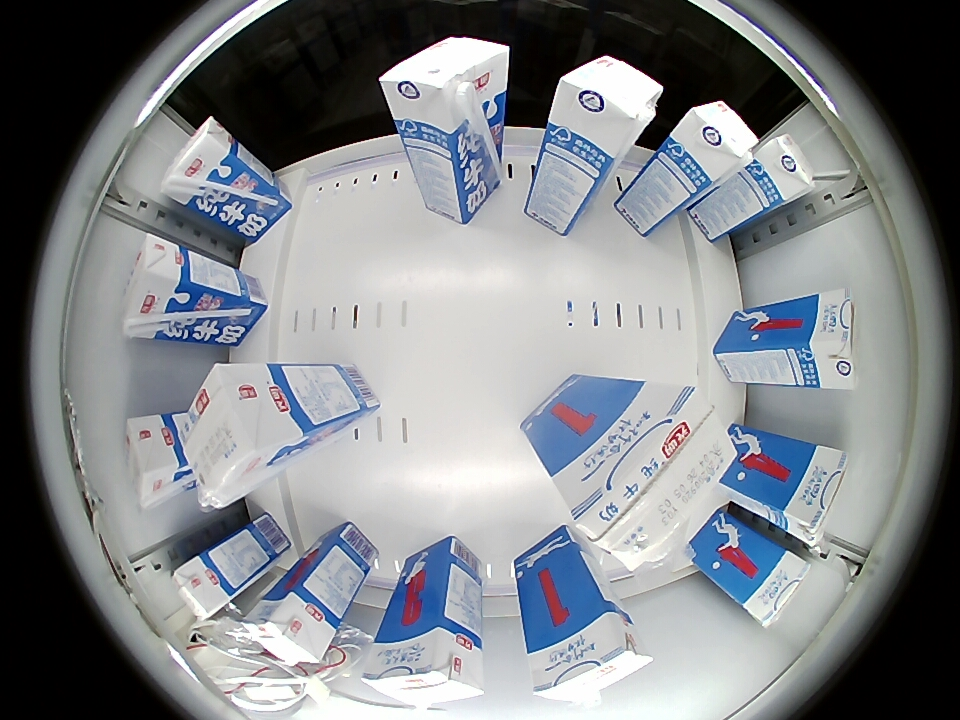niunai: (576, 385, 739, 572), (185, 363, 302, 511), (380, 36, 508, 129), (532, 612, 655, 707), (549, 55, 663, 155), (362, 627, 486, 708), (161, 117, 245, 213), (122, 234, 193, 340), (670, 102, 759, 186), (245, 586, 336, 667), (776, 443, 848, 542), (790, 289, 856, 389), (125, 413, 190, 510), (740, 543, 811, 626), (172, 549, 237, 622), (756, 133, 816, 205)
